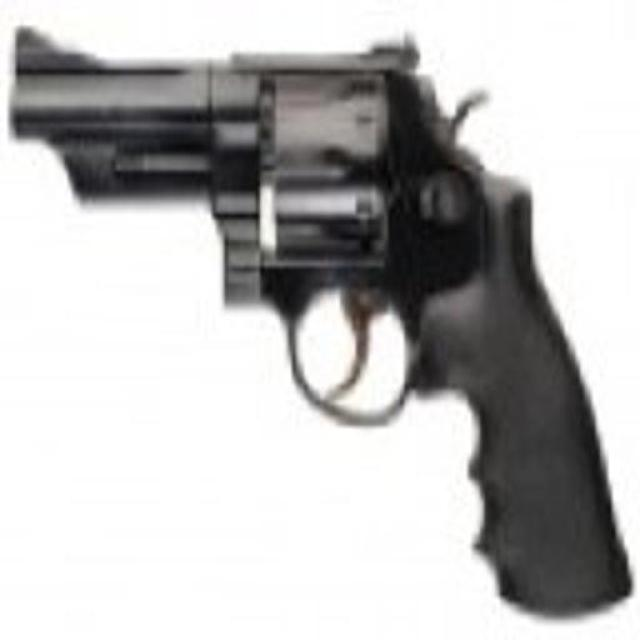pistol: (11, 15, 627, 617)
